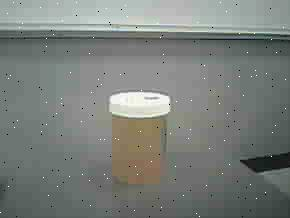Bottle B: (104, 87, 177, 189)
